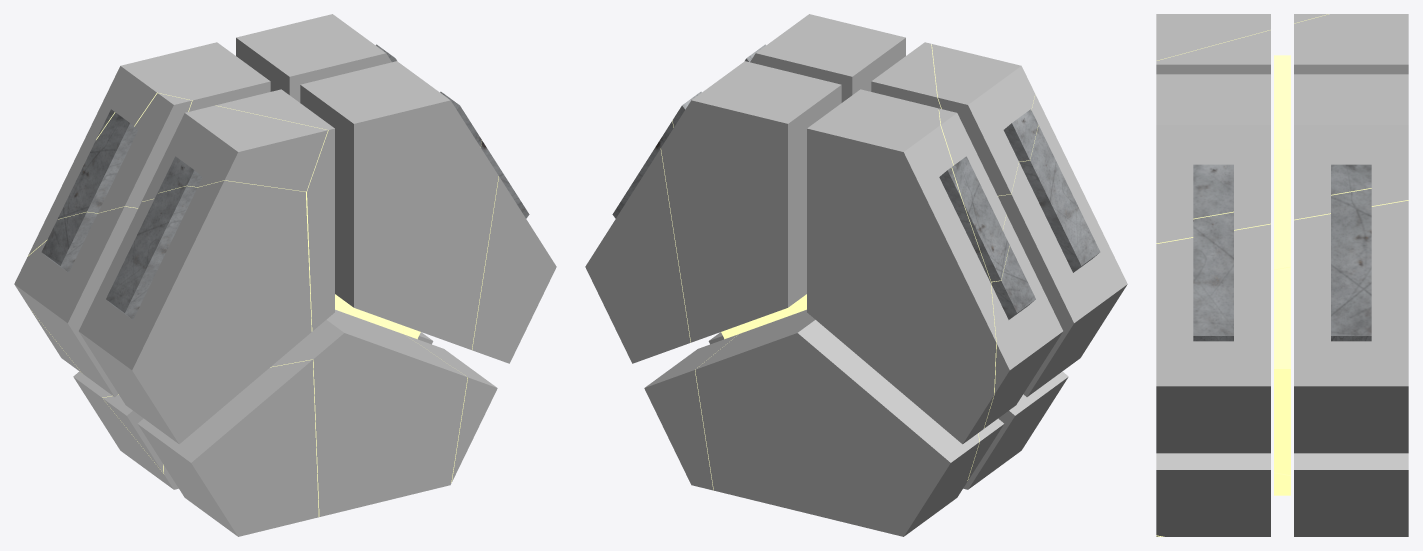
File: Fractured-Hexagonal-Prism.fbx
3 views of the same model, side by side, from view 1: azimuth 30°, elevation 25°; view 2: azimuth 150°, elevation 25°; view 3: azimuth 270°, elevation 25° (orthographic). The views are drawn at different scales.
Visible parts, largest first — view 1: Hexagonal Prism.001_cell.015, Hexagonal Prism.001_cell.008, Hexagonal Prism.001_cell.010, Hexagonal Prism.001_cell.002, Hexagonal Prism.001_cell.003, Hexagonal Prism.001_cell.014, Hexagonal Prism.001_cell.011, Hexagonal Prism.001_cell.004, Hexagonal Prism.001_cell.018, Hexagonal Prism.001_cell.001, Hexagonal Prism.001_cell.012, Hexagonal Prism.001_cell.006 (+3 smaller); view 2: Hexagonal Prism.001_cell.011, Hexagonal Prism.001_cell.009, Hexagonal Prism.001_cell.001, Hexagonal Prism.001_cell.015, Hexagonal Prism.001_cell, Hexagonal Prism.001_cell.003, Hexagonal Prism.001_cell.014, Hexagonal Prism.001_cell.008, Hexagonal Prism.001_cell.005, Hexagonal Prism.001_cell.018, Hexagonal Prism.001_cell.002, Hexagonal Prism.001_cell.012 (+2 smaller); view 3: Hexagonal Prism.001_cell, Hexagonal Prism.001_cell.004, Hexagonal Prism.001_cell.008, Hexagonal Prism.001_cell.001, Hexagonal Prism.001_cell.005, Hexagonal Prism.001_cell.006, Hexagonal Prism.001_cell.011, Hexagonal Prism.001_cell.013, Hexagonal Prism.001_cell.003, Hexagonal Prism.001_cell.007, Hexagonal Prism.001_cell.012.
Boxes of the visible parts, x1,y1,x2,y2 form: Hexagonal Prism.001_cell.015: (78, 180, 311, 444); Hexagonal Prism.001_cell.008: (300, 61, 498, 349); Hexagonal Prism.001_cell.010: (270, 309, 467, 516); Hexagonal Prism.001_cell.002: (138, 359, 318, 536); Hexagonal Prism.001_cell.003: (141, 105, 327, 201); Hexagonal Prism.001_cell.014: (14, 206, 137, 396); Hexagonal Prism.001_cell.011: (27, 42, 270, 372); Hexagonal Prism.001_cell.004: (472, 140, 556, 363); Hexagonal Prism.001_cell.018: (58, 93, 191, 219); Hexagonal Prism.001_cell.001: (236, 14, 396, 102); Hexagonal Prism.001_cell.012: (215, 89, 334, 331); Hexagonal Prism.001_cell.006: (405, 335, 497, 482); Hexagonal Prism.001_cell.011: (807, 89, 996, 444); Hexagonal Prism.001_cell.009: (695, 309, 979, 536); Hexagonal Prism.001_cell.001: (661, 61, 841, 342); Hexagonal Prism.001_cell.015: (998, 94, 1127, 396); Hexagonal Prism.001_cell: (585, 120, 690, 363); Hexagonal Prism.001_cell.003: (932, 44, 1038, 195); Hexagonal Prism.001_cell.014: (984, 214, 1063, 428); Hexagonal Prism.001_cell.008: (745, 14, 905, 102); Hexagonal Prism.001_cell.005: (644, 334, 738, 490); Hexagonal Prism.001_cell.018: (939, 108, 1009, 281); Hexagonal Prism.001_cell.002: (963, 371, 1068, 489); Hexagonal Prism.001_cell.012: (871, 42, 941, 109); Hexagonal Prism.001_cell: (1294, 188, 1408, 453); Hexagonal Prism.001_cell.004: (1156, 212, 1270, 453); Hexagonal Prism.001_cell.008: (1156, 74, 1270, 243); Hexagonal Prism.001_cell.001: (1294, 74, 1408, 220); Hexagonal Prism.001_cell.005: (1294, 453, 1408, 536); Hexagonal Prism.001_cell.006: (1156, 453, 1270, 536); Hexagonal Prism.001_cell.011: (1294, 14, 1408, 74); Hexagonal Prism.001_cell.013: (1274, 55, 1290, 495); Hexagonal Prism.001_cell.003: (1156, 14, 1270, 60); Hexagonal Prism.001_cell.007: (1274, 267, 1290, 475); Hexagonal Prism.001_cell.012: (1156, 30, 1270, 74).
Size of the model in its own units: 2 by 0.9622 by 1.78.
